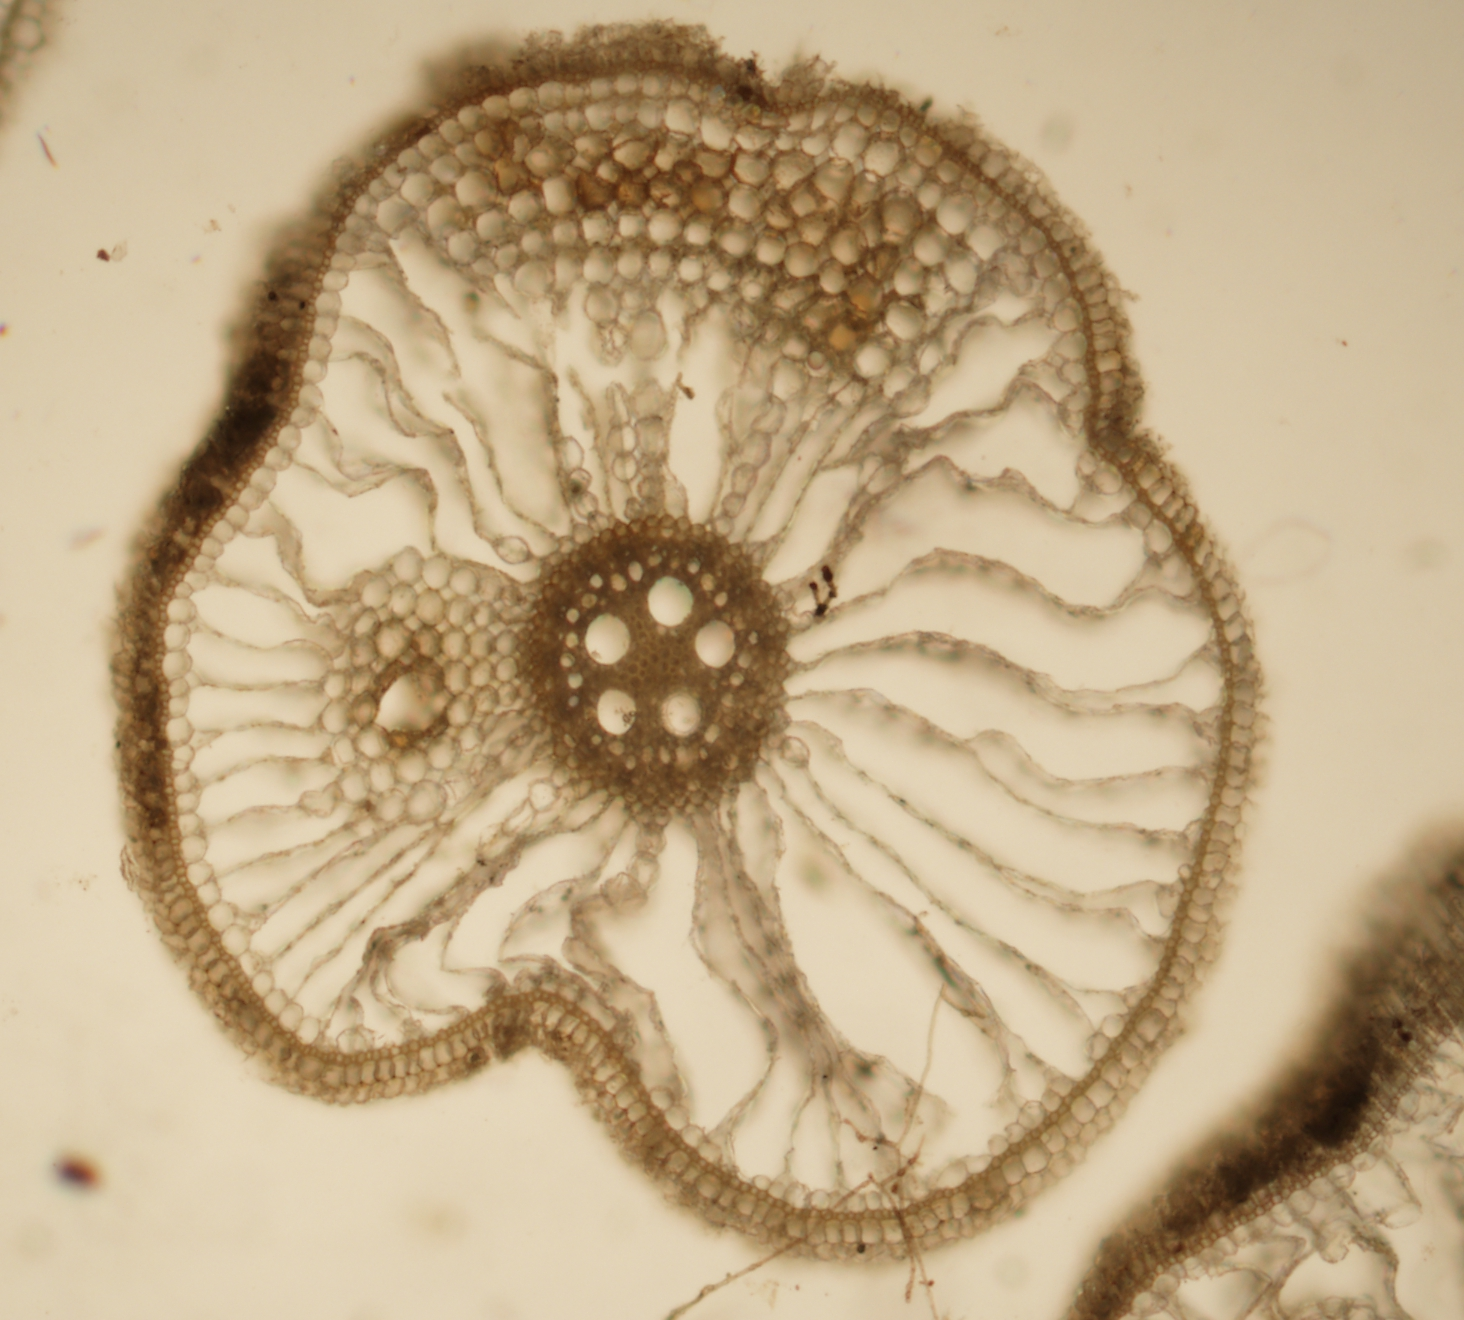lm: (584, 613, 631, 665), (647, 576, 694, 626), (694, 619, 735, 668), (660, 692, 701, 736), (598, 688, 635, 735)
